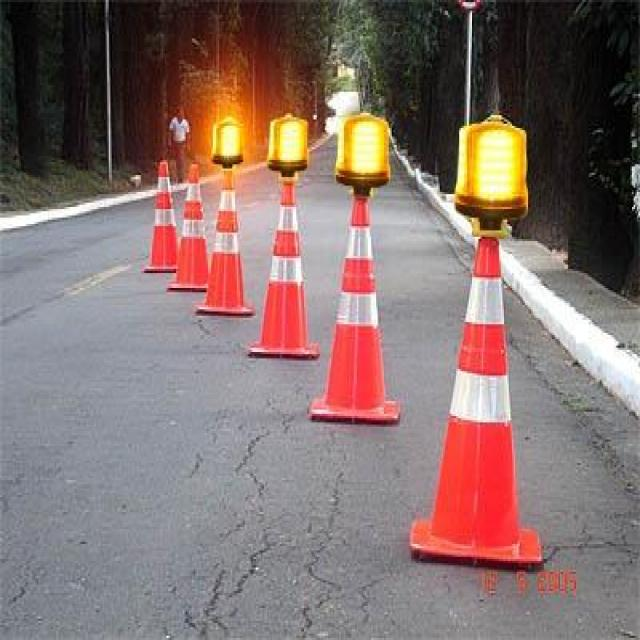cone: (405, 224, 541, 558), (316, 198, 396, 422), (258, 189, 312, 358), (207, 176, 250, 313)
